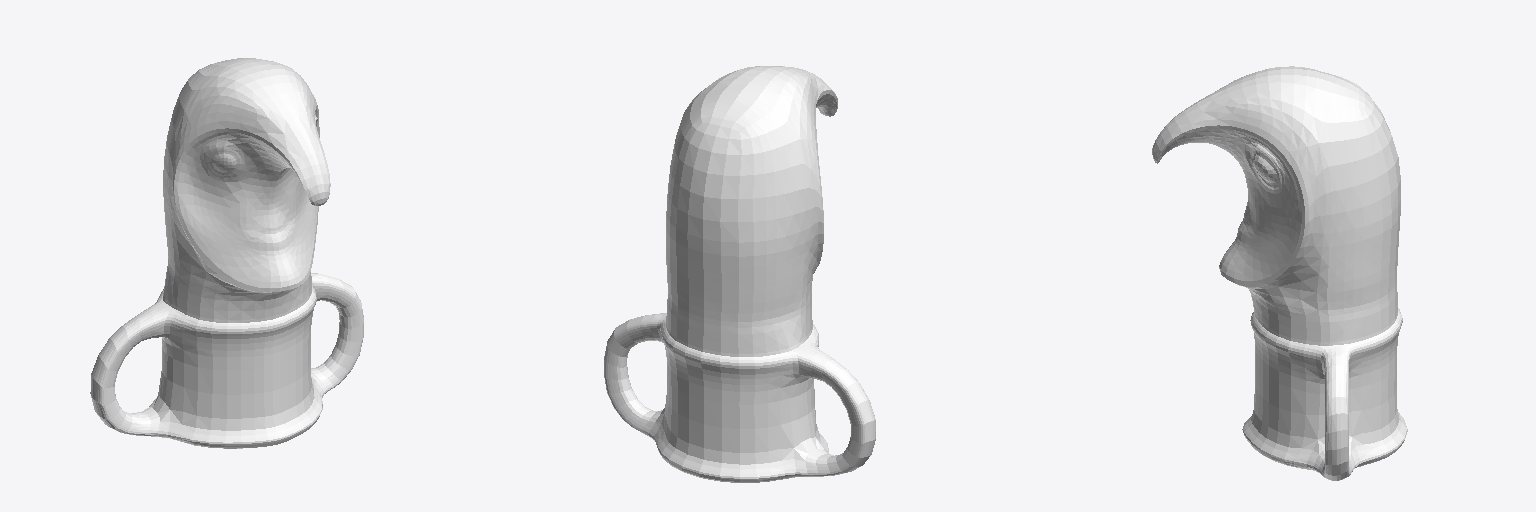
Rendered from glasbacka.obj.
3 views of the same model, side by side, from view 1: azimuth 30°, elevation 25°; view 2: azimuth 150°, elevation 25°; view 3: azimuth 270°, elevation 25° (orthographic).
Visible parts, largest first — view 1: Circle; view 2: Circle; view 3: Circle.
Boxes of the visible parts, <box> form: Circle: <box>90,58,363,448</box>; Circle: <box>604,66,875,482</box>; Circle: <box>1152,66,1407,480</box>.
Size of the model in its own units: 5.09 by 6.64 by 4.19.